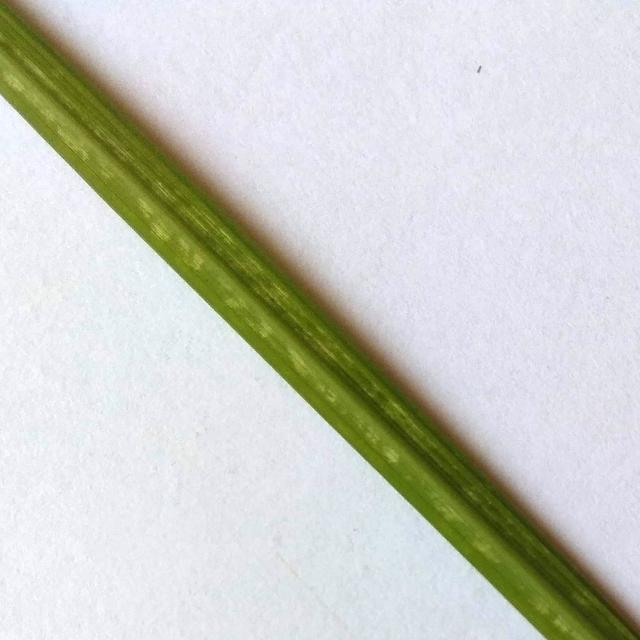Rice_Healthy: (0, 2, 640, 640)
